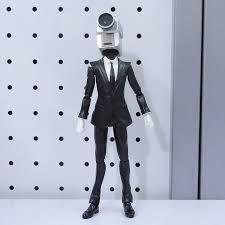no more kid: (94, 10, 125, 57)
